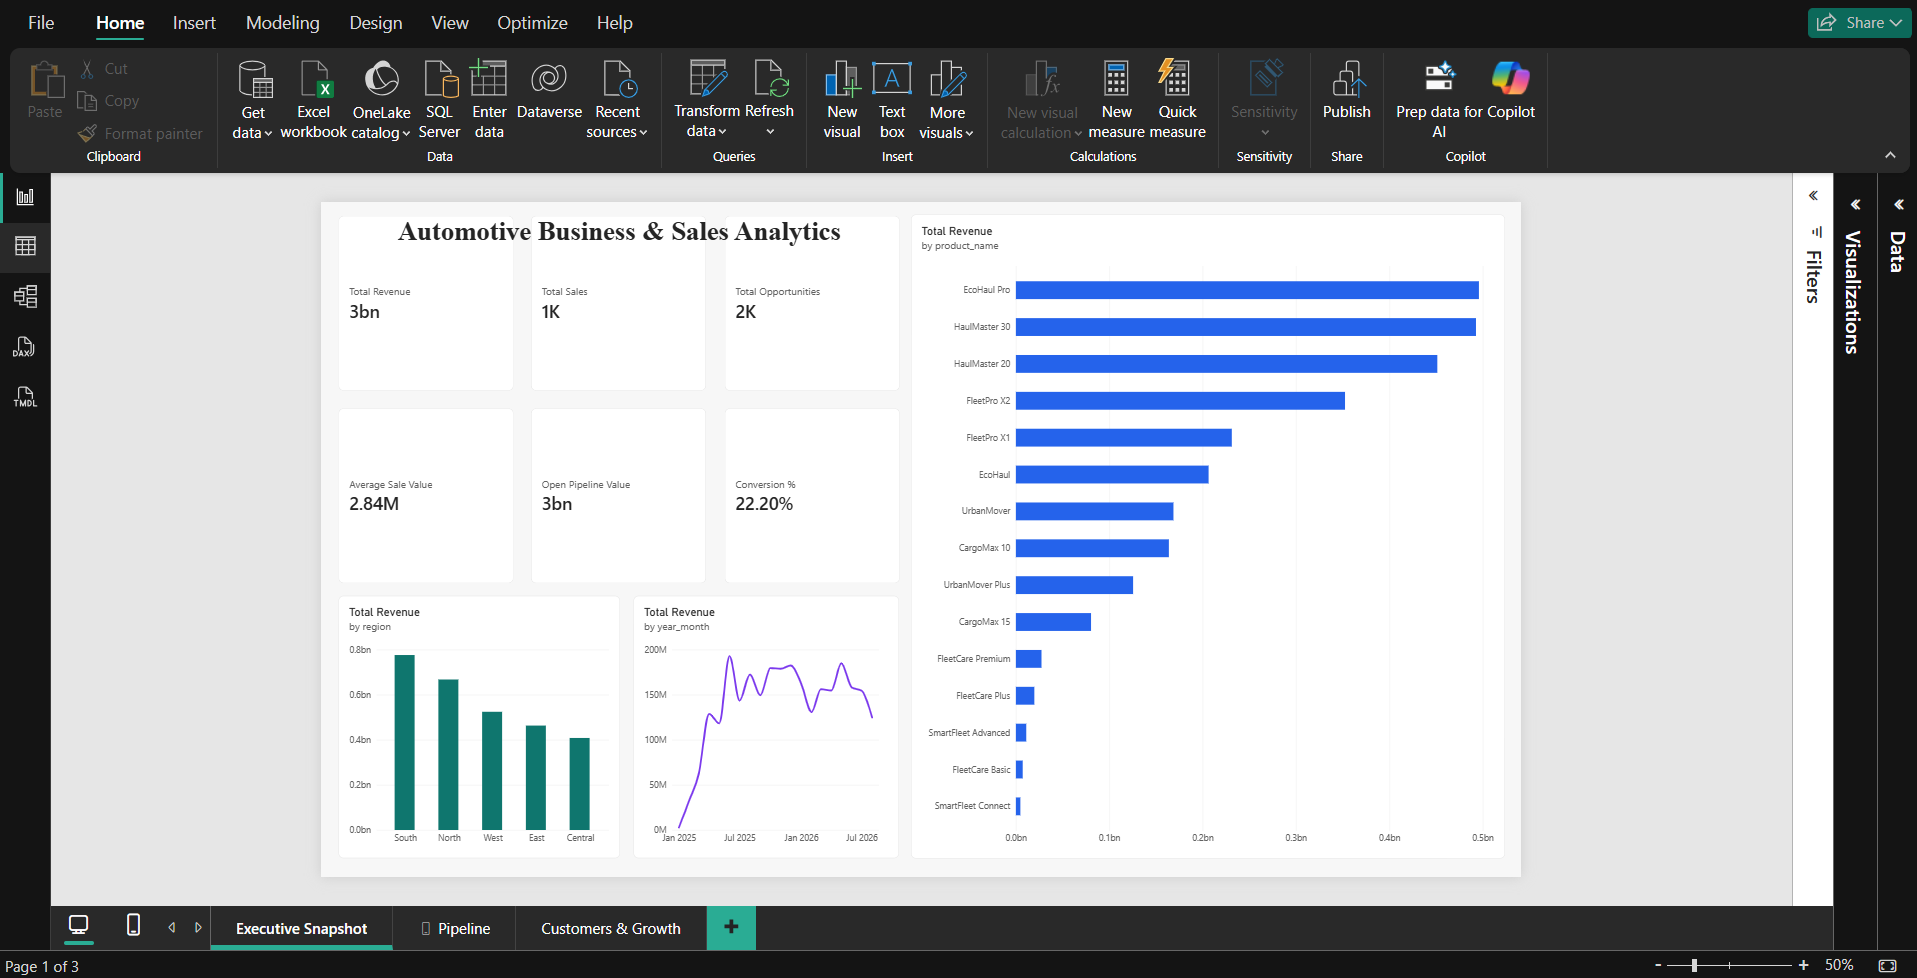

What the dashboard file says about the page in this screenshot:
{"tool":"powerbi","page":{"name":"Executive Snapshot","canvas":[1920,1080],"ordinal":0},"visuals":[{"type":"cardVisual","fields":{"Data":["fact_sales.Total Revenue"]},"box":[27.5,22.5,280,280],"z":0},{"type":"cardVisual","fields":{"Data":["dim_customer.Total Sales"]},"box":[335,22.5,280,280],"z":1000},{"type":"cardVisual","fields":{"Data":["fact_opportunities.Total Opportunities"]},"box":[645,22.5,280,280],"z":2000},{"type":"cardVisual","fields":{"Data":["fact_opportunities.Conversion %"]},"box":[645,330,280,280],"z":3000},{"type":"cardVisual","fields":{"Data":["fact_opportunities.Open Pipeline Value"]},"box":[335,330,280,280],"z":4000},{"type":"cardVisual","fields":{"Data":["fact_sales.Average Sale Value"]},"box":[27.5,330,280,280],"z":5000},{"type":"textbox","box":[27.1,22.9,898.6,68.6],"z":6000},{"type":"lineChart","fields":{"Category":["dim_date.year_month"],"Y":["fact_sales.Total Revenue"]},"box":[500,630,425,420],"z":7000},{"type":"clusteredColumnChart","fields":{"Category":["fact_sales.region"],"Y":["fact_sales.Total Revenue"]},"box":[28.3,630,450,420],"z":8000},{"type":"clusteredBarChart","fields":{"Category":["dim_product.product_name"],"Y":["fact_sales.Total Revenue"]},"box":[943.3,20,950,1030],"z":9000}]}

Visuals, with their boxes on the page's 1920x1080 design canvas (x1, y1, x2, y2). These are canvas units, not pixel positions in the 1917x978 screenshot, which may show the page scaled, cropped or inside an application window:
cardVisual - fact_sales.Total Revenue: rect(28, 22, 308, 302)
cardVisual - dim_customer.Total Sales: rect(335, 22, 615, 302)
cardVisual - fact_opportunities.Total Opportunities: rect(645, 22, 925, 302)
cardVisual - fact_opportunities.Conversion %: rect(645, 330, 925, 610)
cardVisual - fact_opportunities.Open Pipeline Value: rect(335, 330, 615, 610)
cardVisual - fact_sales.Average Sale Value: rect(28, 330, 308, 610)
textbox: rect(27, 23, 926, 92)
lineChart - dim_date.year_month x fact_sales.Total Revenue: rect(500, 630, 925, 1050)
clusteredColumnChart - fact_sales.region x fact_sales.Total Revenue: rect(28, 630, 478, 1050)
clusteredBarChart - dim_product.product_name x fact_sales.Total Revenue: rect(943, 20, 1893, 1050)
